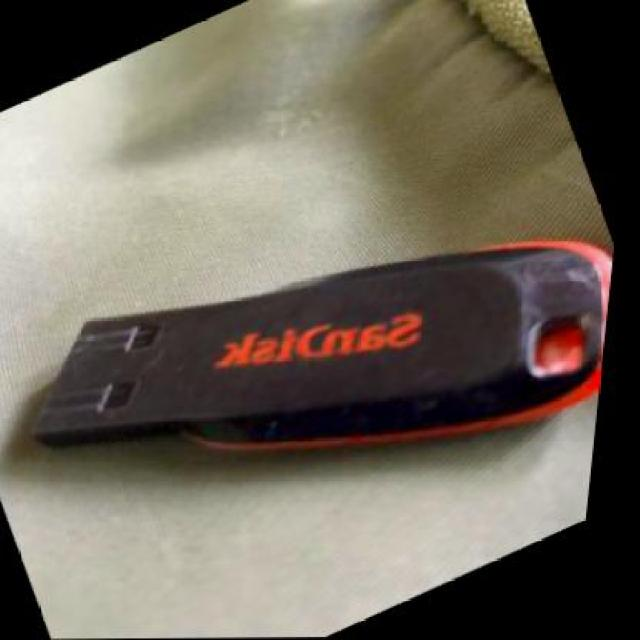Flashdisk: (0, 72, 634, 640)
